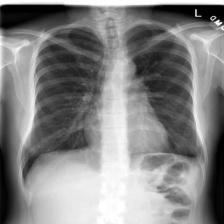normal: (14, 22, 207, 189)
